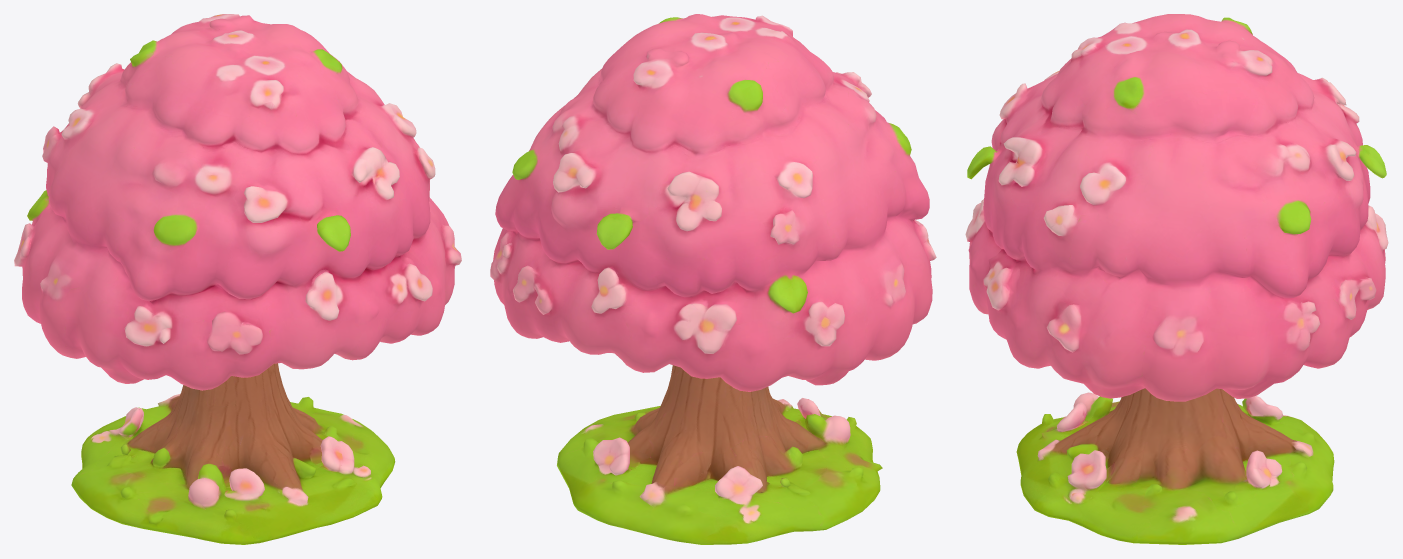
Rendered from tree.glb.
3 views of the same model, side by side, from view 1: azimuth 30°, elevation 25°; view 2: azimuth 150°, elevation 25°; view 3: azimuth 270°, elevation 25° (orthographic).
Size of the model in its own units: 1.76 by 1.91 by 1.65.
1 material, 1 textured.
